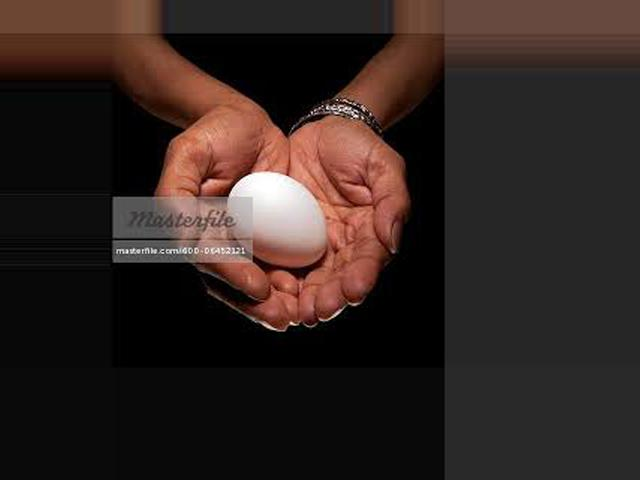egg: (227, 171, 328, 269)
